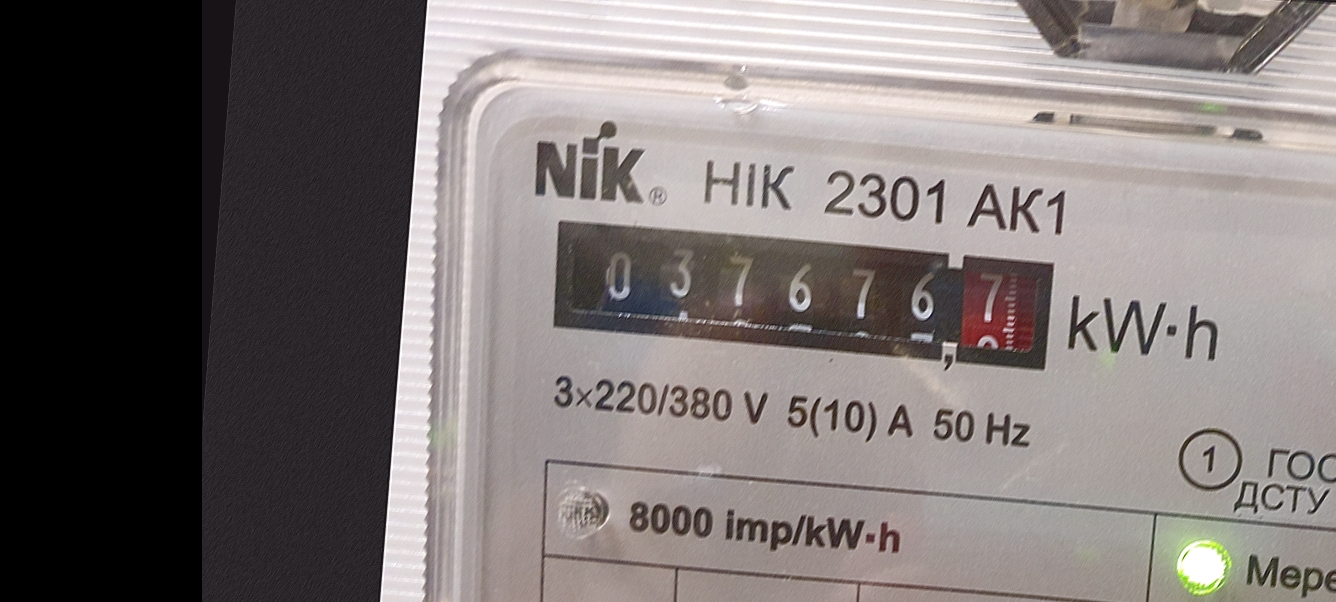0: (602, 245, 640, 302)
3: (666, 241, 698, 300)
6: (784, 256, 820, 312), (907, 265, 941, 322)
7: (845, 262, 881, 323), (723, 249, 758, 308), (975, 267, 1007, 324)
screen: (534, 201, 1073, 388)
